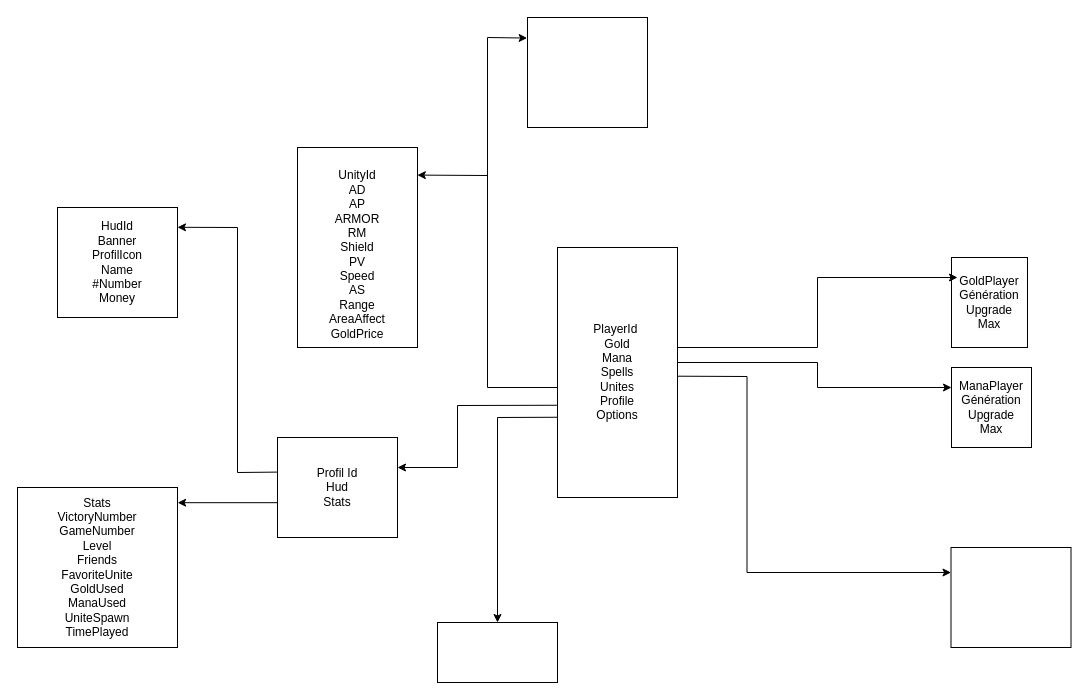
Image size: 1089x700. Some labels were removed from this diagram. Here are the shapes that lost their labels. From the top down, the centre of each, then its label:
At point 587,72: "TowerID Range PV Damage AttackSpeed".
At point 1010,597: "SpellID Damage Range ManaPrice Delay".
At point 497,652: "OptionsId Son MuteTchat Sensibilité".
